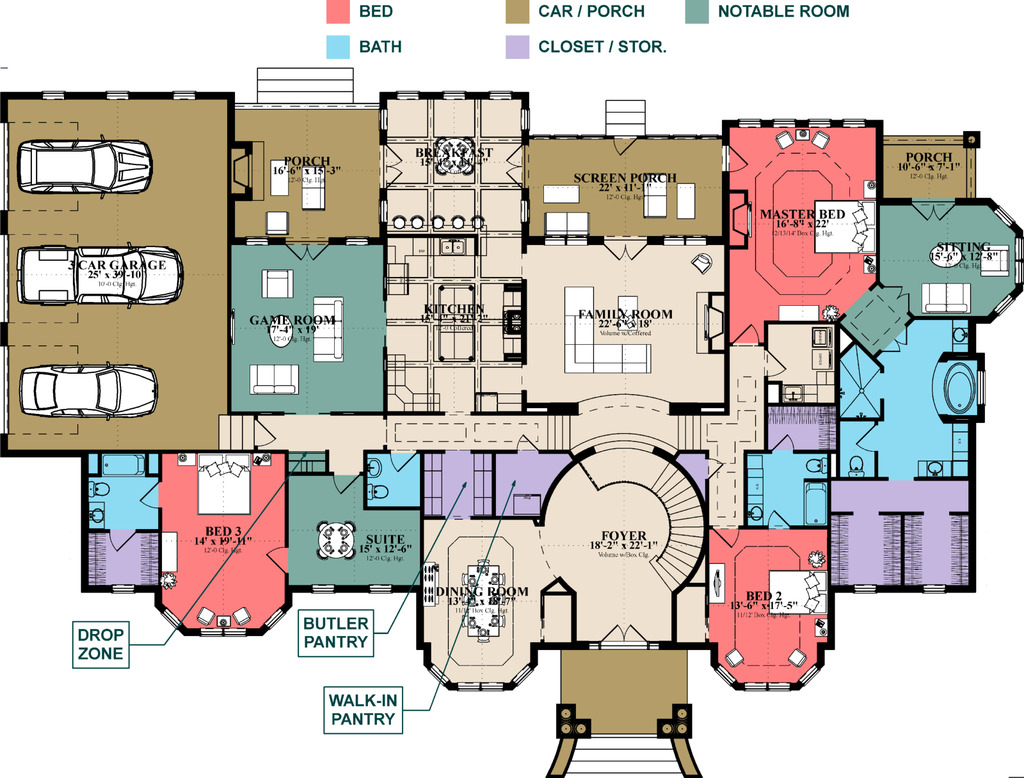bed: (195, 447, 255, 518), (812, 198, 878, 260), (769, 567, 824, 614)
dining_table: (452, 559, 506, 645)
door: (598, 619, 651, 647)
kitchen_bar: (434, 278, 478, 360)
large_sink: (835, 452, 868, 480)
large_sofa: (559, 290, 651, 373), (311, 298, 343, 366), (919, 277, 973, 315), (248, 361, 298, 399), (542, 209, 593, 244), (302, 158, 326, 212), (639, 174, 667, 219), (360, 480, 389, 504)
round_table: (315, 518, 355, 565)
small_sink: (912, 459, 952, 483), (83, 503, 110, 530)
small_sofa: (257, 266, 298, 304)
stairs: (647, 453, 710, 596), (545, 720, 700, 778), (249, 63, 364, 113)
tub: (934, 356, 980, 417), (803, 479, 832, 524), (103, 452, 145, 481)
windows: (387, 84, 511, 106), (192, 621, 251, 641), (738, 678, 795, 698), (453, 680, 507, 695)
